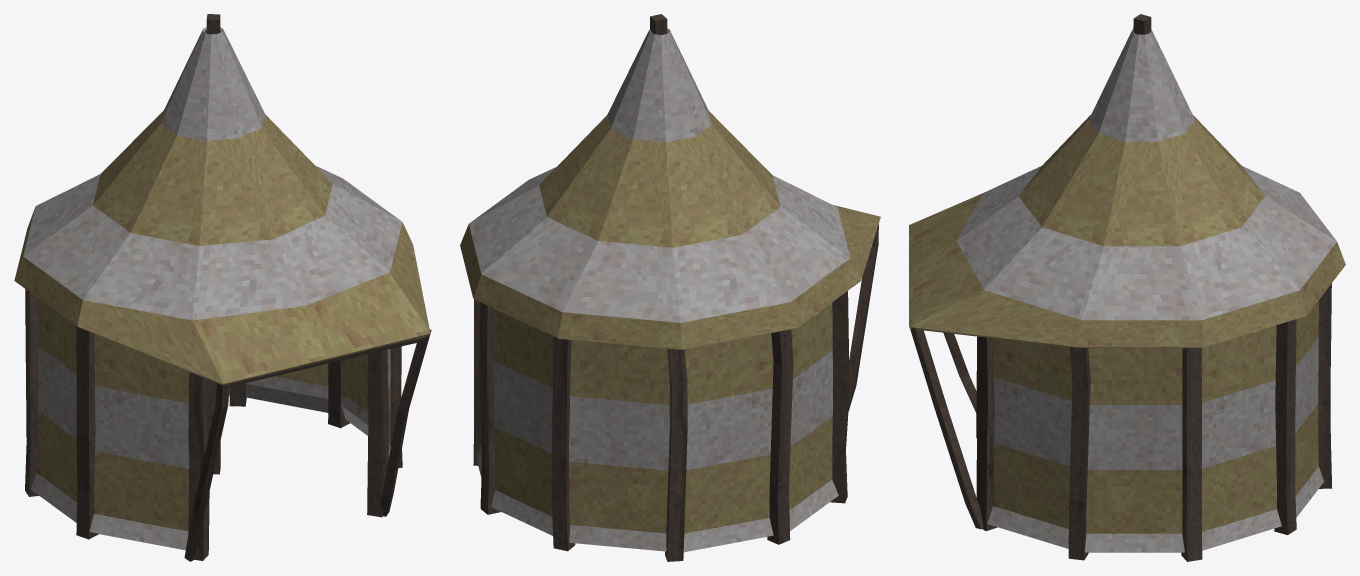
Rendered from market_stall_round_yellow.glb.
The picture shows the model from 3 angles, left to right: view 1: azimuth 30°, elevation 25°; view 2: azimuth 150°, elevation 25°; view 3: azimuth 270°, elevation 25°; orthographic projection.
Parts seen in each view (by area): view 1: market_stall_round_yellow; view 2: market_stall_round_yellow; view 3: market_stall_round_yellow.
Boxes of the visible parts, left/top/right/bottom form: market_stall_round_yellow: left=14, top=14, right=431, bottom=561; market_stall_round_yellow: left=460, top=14, right=880, bottom=561; market_stall_round_yellow: left=909, top=14, right=1345, bottom=561.
Bounding box in the file's own units: 3.74 × 4.94 × 4.17.
2 materials, 2 textured.
